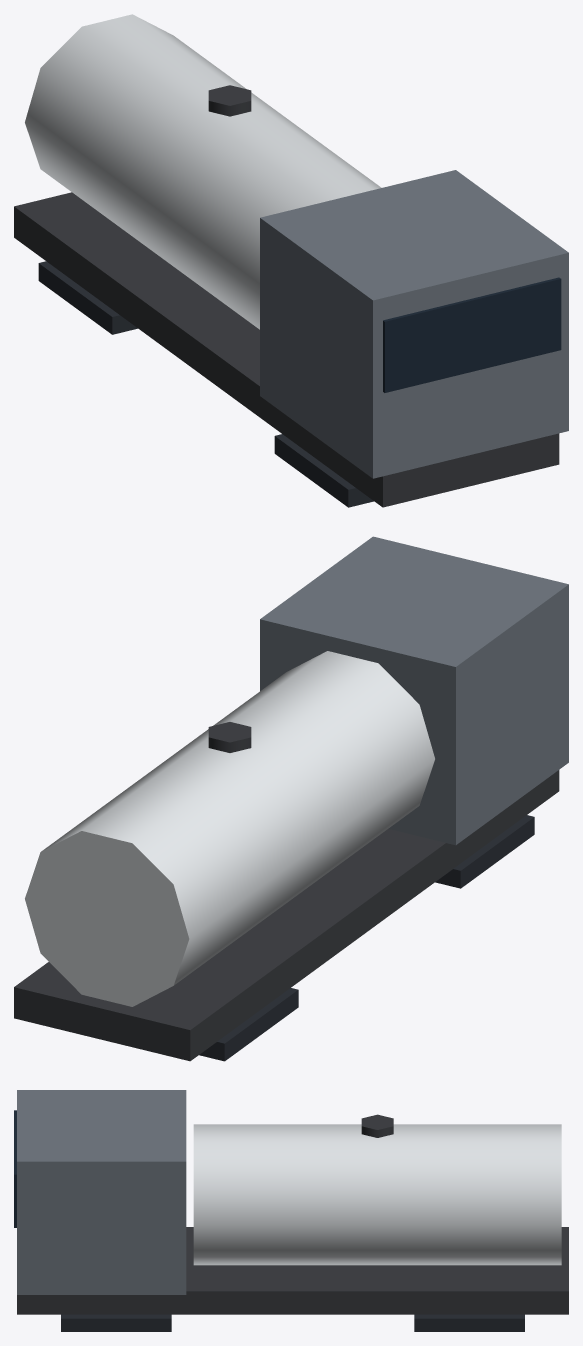
Rendered from veh_ground_tanker_a10.glb.
3 views of the same model, one above another, from view 1: azimuth 30°, elevation 25°; view 2: azimuth 150°, elevation 25°; view 3: azimuth 270°, elevation 25° (orthographic). The views are drawn at different scales.
Visible parts, largest first — view 1: body; view 2: body; view 3: body.
Boxes of the visible parts, <box> form: body: <box>14,14,568,507</box>; body: <box>14,536,568,1061</box>; body: <box>14,1090,568,1331</box>.
Size of what is drawn, in the model's own units: 2.3 by 2.69 by 7.54.
